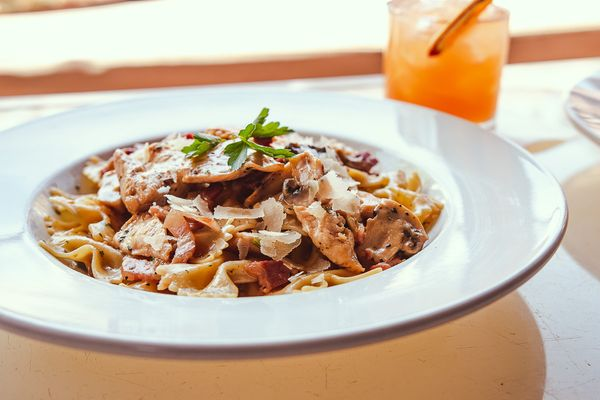pizza: (383, 0, 510, 128)
